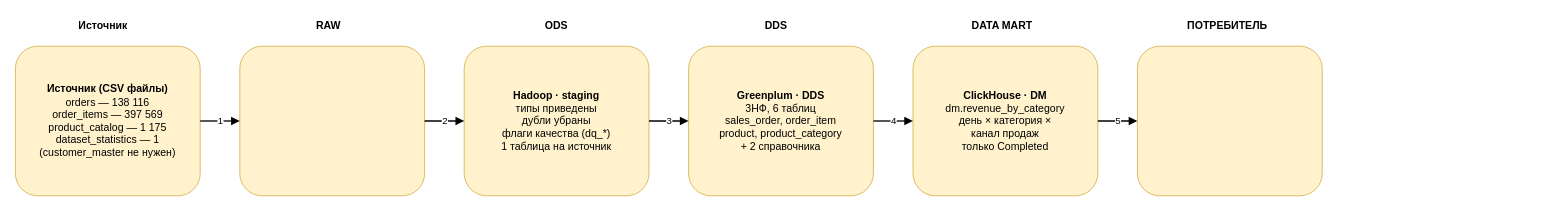
Some shapes in this 1553 by 211 pixel diagram are drawn without their labels. The box of each missing label's shape, as (x1, y1, x2, y2) in pixels:
BI / аналитик дашборд выручки SQL-запросы к витрине: (1137, 45, 1322, 196)
Hadoop · raw файлы как пришли: (239, 45, 425, 196)
